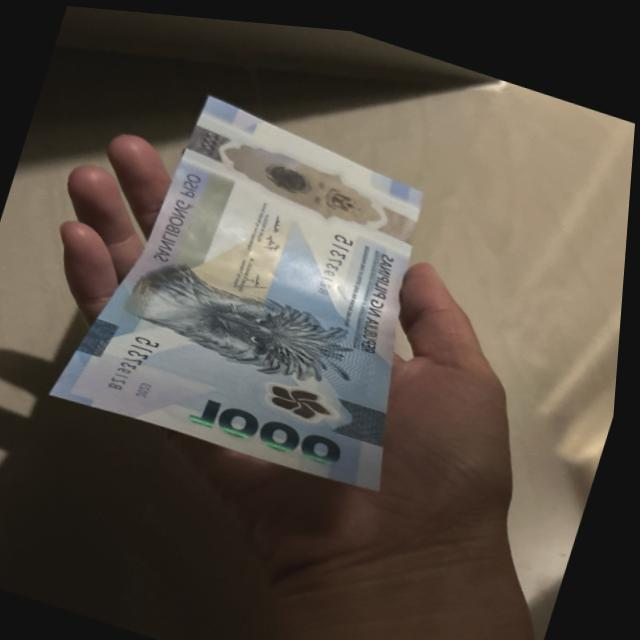clear_window: (191, 124, 417, 230)
eagle: (115, 250, 368, 388)
sampaguita: (265, 367, 346, 424)
value: (182, 383, 352, 467)
